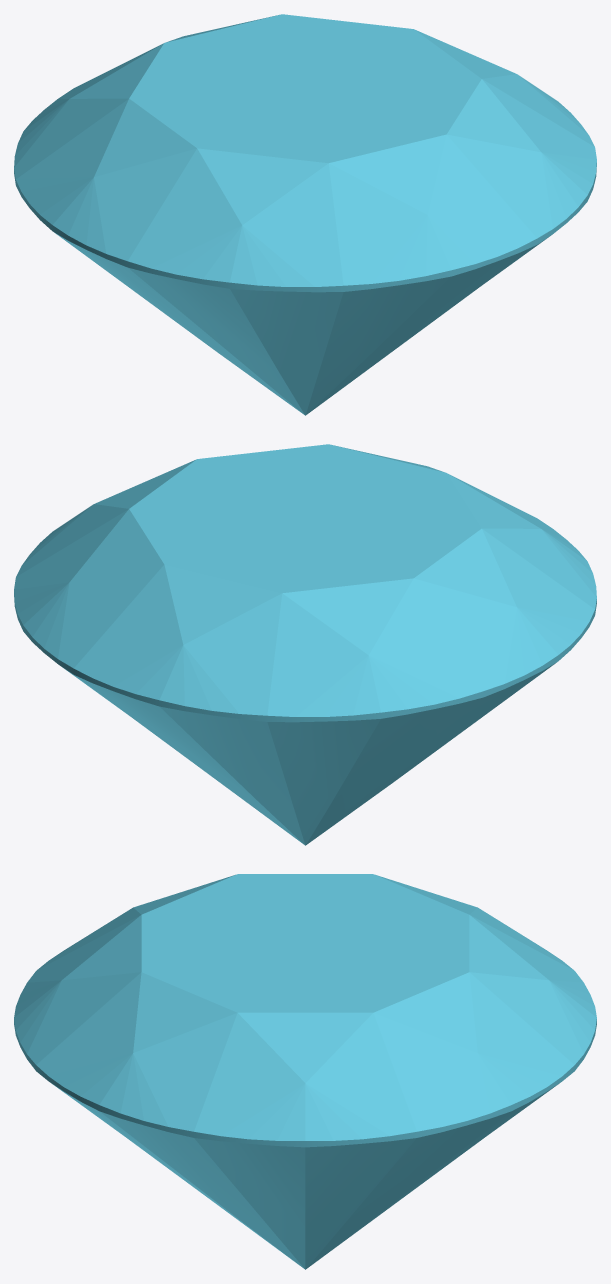
The model's file is Diamond.fbx.
3 views of the same model, one above another, from view 1: azimuth 30°, elevation 25°; view 2: azimuth 150°, elevation 25°; view 3: azimuth 270°, elevation 25° (orthographic).
Parts seen in each view (by area): view 1: Diamond; view 2: Diamond; view 3: Diamond.
Part boxes in pixels (x1=…): Diamond: x1=14, y1=14, x2=596, y2=415; Diamond: x1=14, y1=444, x2=596, y2=845; Diamond: x1=14, y1=874, x2=596, y2=1269.
Bounding box in the file's own units: 51.89 × 32.05 × 51.89.
